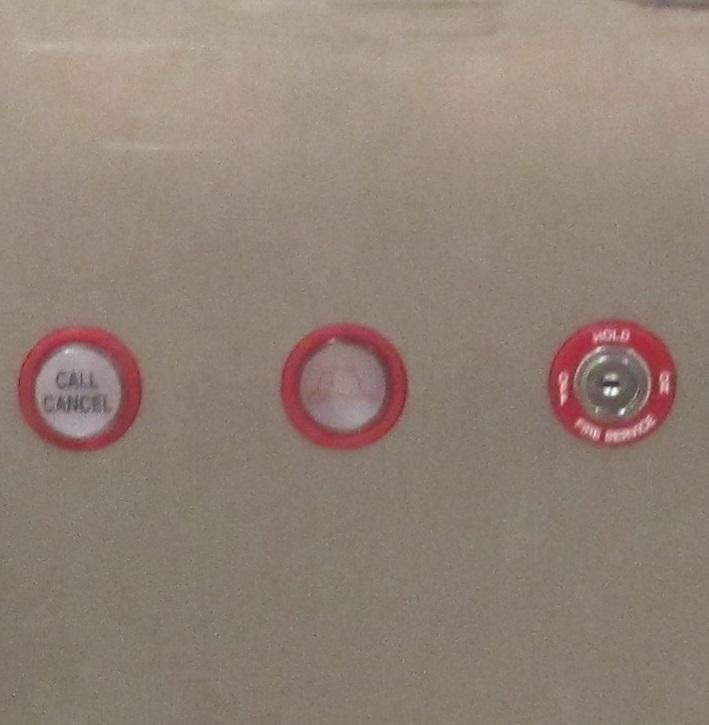hat: (276, 320, 410, 451)
keyhole: (545, 318, 678, 448)
text_CALL CANCEL: (13, 324, 143, 455)
